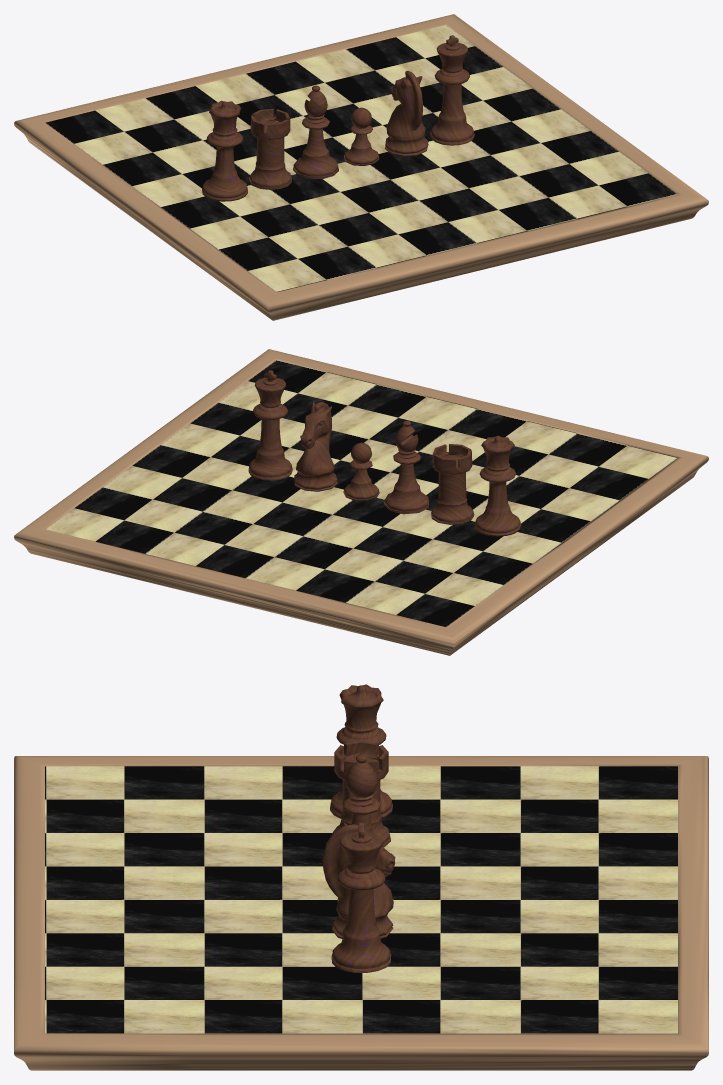
The model's file is chess complete.glb.
The picture shows the model from 3 angles, top to bottom: view 1: azimuth 30°, elevation 25°; view 2: azimuth 150°, elevation 25°; view 3: azimuth 270°, elevation 25°; orthographic projection. The views are drawn at different scales.
Parts seen in each view (by area): view 1: BOARD, KING, QUEEN, ROOK, KNIGHT, BISHOP, PAWN; view 2: BOARD, KING, QUEEN, KNIGHT, ROOK, BISHOP, PAWN; view 3: BOARD, KING, KNIGHT, QUEEN, ROOK, BISHOP.
Part boxes in pixels (bbox=[...]): BOARD: bbox=[14, 14, 708, 320]; KING: bbox=[430, 35, 474, 145]; QUEEN: bbox=[202, 100, 247, 201]; ROOK: bbox=[248, 109, 291, 189]; KNIGHT: bbox=[385, 71, 428, 156]; BISHOP: bbox=[293, 85, 338, 179]; PAWN: bbox=[344, 107, 379, 165]; BOARD: bbox=[14, 349, 708, 655]; KING: bbox=[248, 370, 292, 480]; QUEEN: bbox=[474, 435, 521, 536]; KNIGHT: bbox=[294, 402, 337, 491]; ROOK: bbox=[431, 444, 474, 524]; BISHOP: bbox=[384, 420, 429, 514]; PAWN: bbox=[343, 442, 379, 500]; BOARD: bbox=[14, 756, 708, 1070]; KING: bbox=[331, 822, 391, 972]; KNIGHT: bbox=[322, 823, 395, 938]; QUEEN: bbox=[330, 684, 392, 818]; ROOK: bbox=[332, 741, 390, 847]; BISHOP: bbox=[342, 754, 391, 876].
Bounding box in the file's own units: 96.87 × 25.99 × 96.87.
Materials: 3 (2 with a texture image).
